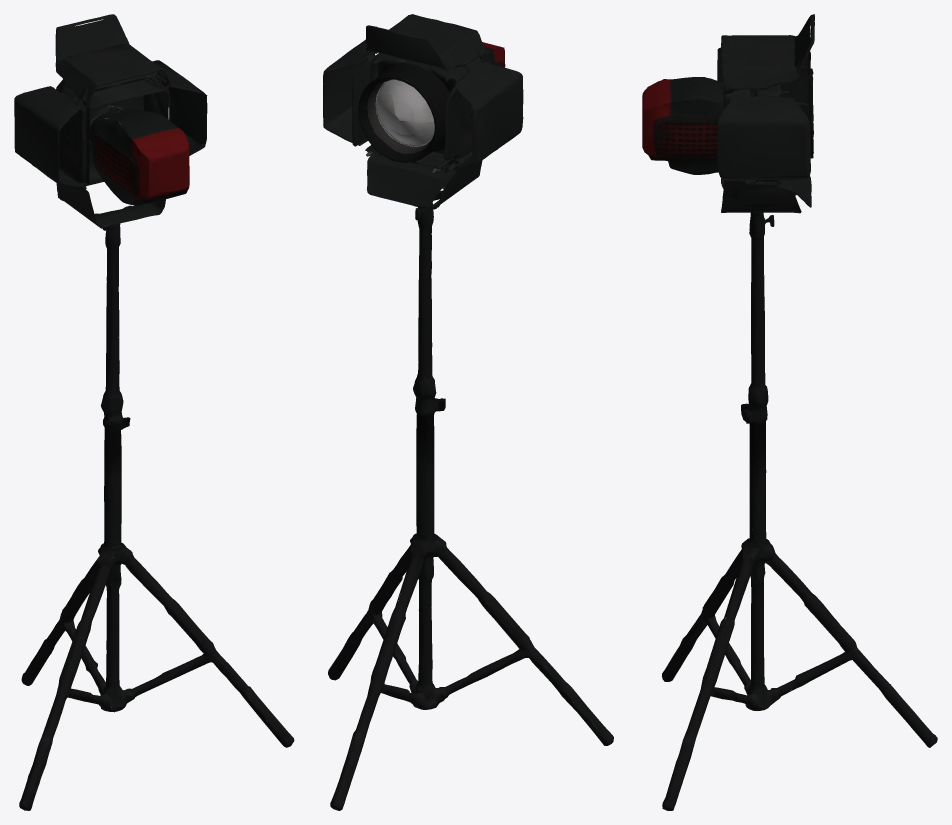
File: light-stand.glb
3 views of the same model, side by side, from view 1: azimuth 30°, elevation 25°; view 2: azimuth 150°, elevation 25°; view 3: azimuth 270°, elevation 25° (orthographic). The views are drawn at different scales.
Parts seen in each view (by area): view 1: Mesh_0; view 2: Mesh_0; view 3: Mesh_0.
Boxes of the visible parts, x1=… form: Mesh_0: x1=14, y1=14, x2=294, y2=810; Mesh_0: x1=323, y1=14, x2=613, y2=810; Mesh_0: x1=642, y1=14, x2=937, y2=810.
Bounding box in the file's own units: 0.4056 × 1 × 0.3727.
Materials: 1 (1 with a texture image).
